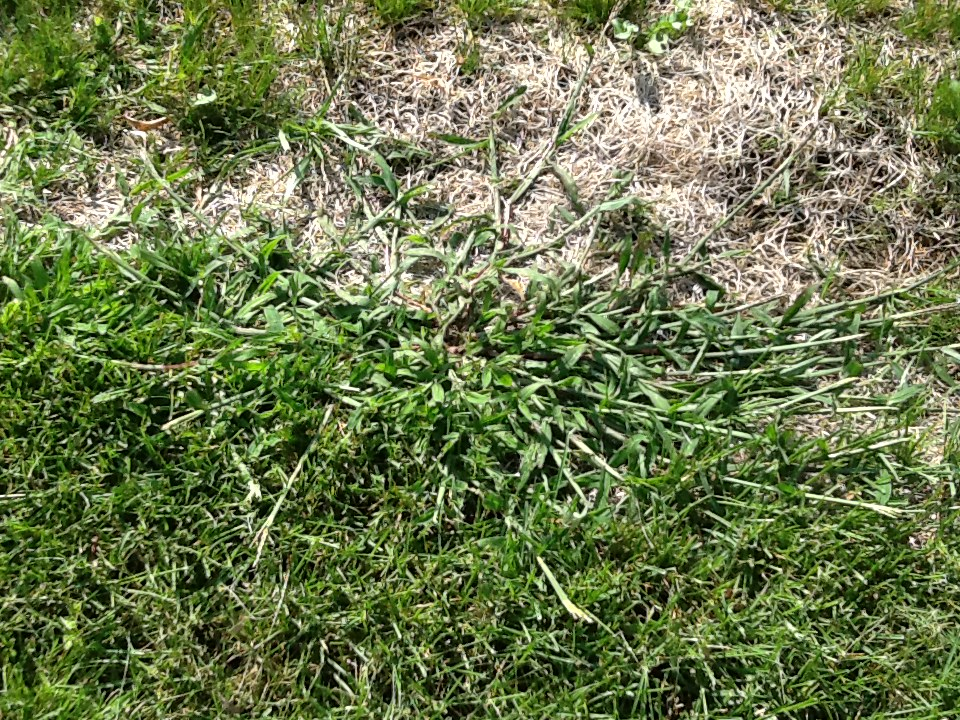crabgrass: (268, 228, 700, 470)
